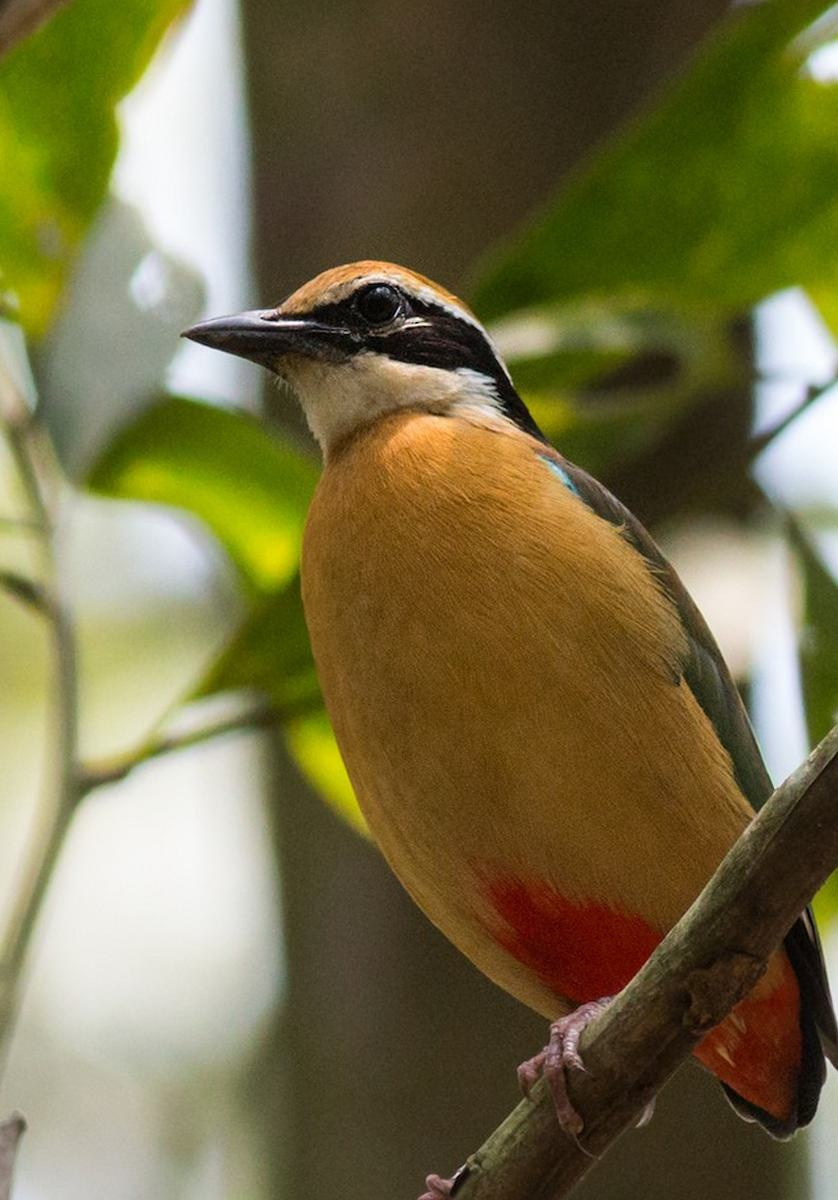pitta: (191, 193, 818, 1105)
